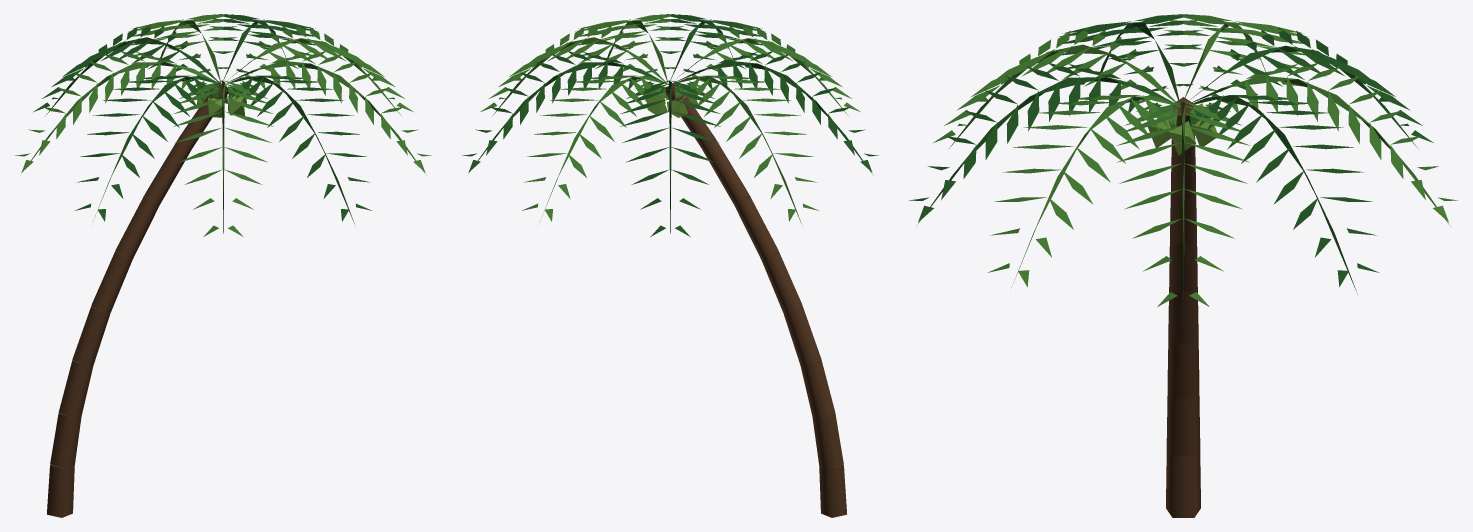
File: coconut_palm.glb
The picture shows the model from 3 angles, left to right: view 1: azimuth 30°, elevation 25°; view 2: azimuth 150°, elevation 25°; view 3: azimuth 270°, elevation 25°; orthographic projection. The views are drawn at different scales.
Parts seen in each view (by area): view 1: leaf, trunk, leaf.001, leaf.002; view 2: leaf, trunk, leaf.001, leaf.002; view 3: leaf, leaf.001, trunk, leaf.002.
Boxes of the visible parts, bbox=[...] form: leaf: bbox=[15, 14, 431, 236]; trunk: bbox=[47, 81, 228, 517]; leaf.001: bbox=[33, 14, 372, 225]; leaf.002: bbox=[197, 84, 246, 117]; leaf: bbox=[480, 14, 860, 225]; trunk: bbox=[665, 81, 846, 517]; leaf.001: bbox=[462, 14, 878, 236]; leaf.002: bbox=[645, 87, 697, 117]; leaf: bbox=[933, 14, 1457, 323]; leaf.001: bbox=[909, 14, 1433, 294]; trunk: bbox=[1166, 97, 1200, 517]; leaf.002: bbox=[1148, 103, 1216, 155].
Size of the model in its own units: 5.56 by 6.21 by 5.64.
